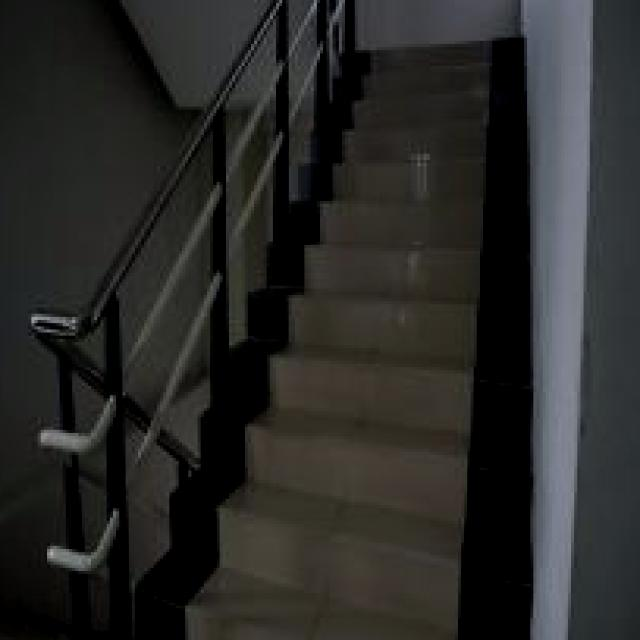upstair: (302, 171, 522, 563)
